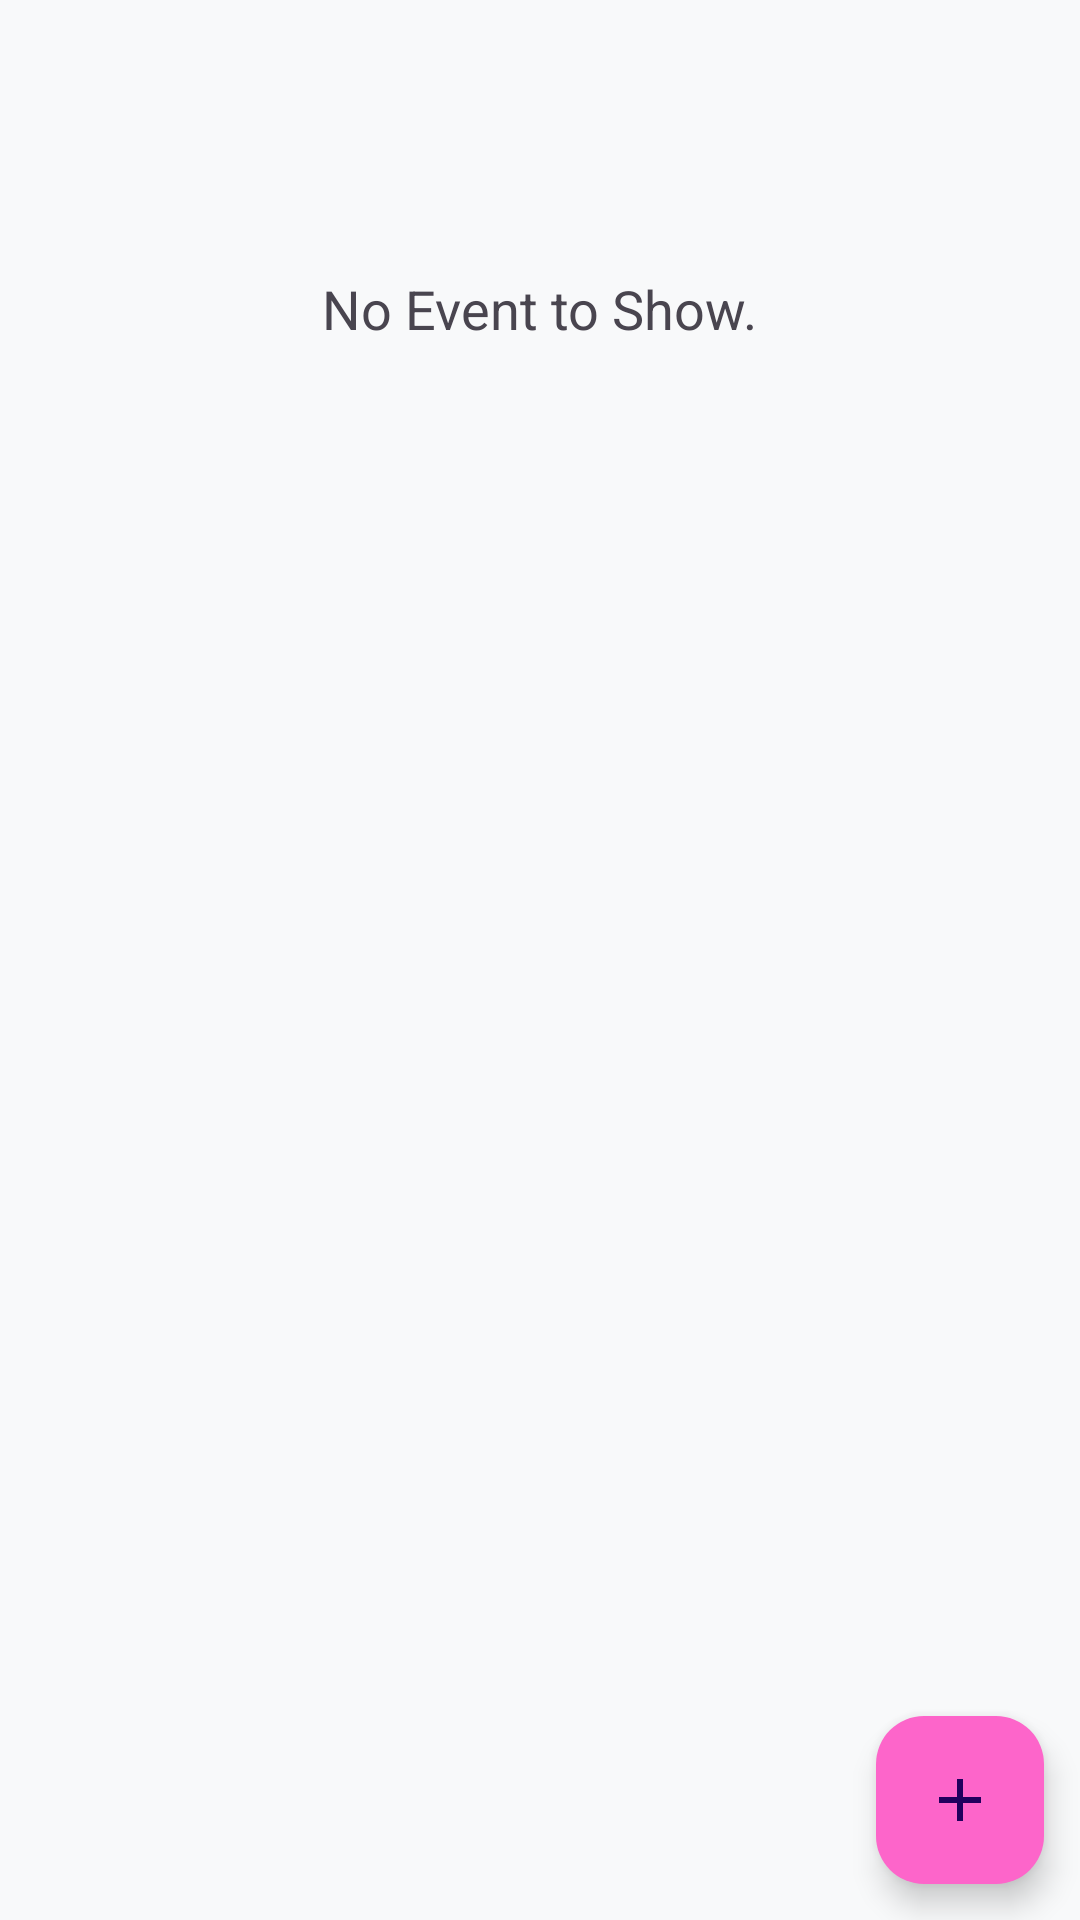

Screen size 1080×1920. Icon name, then its center in pixels as [x,y]:
add: [960,1800]
